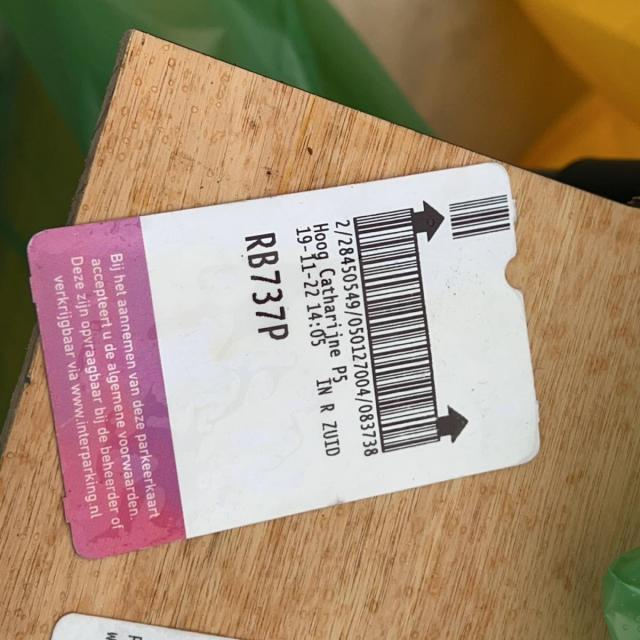Paper: (21, 157, 548, 562)
